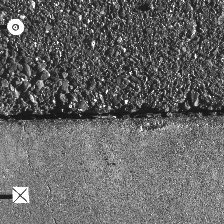circle: (6, 18, 24, 35)
crack: (1, 106, 223, 122)
square: (12, 187, 29, 203)
